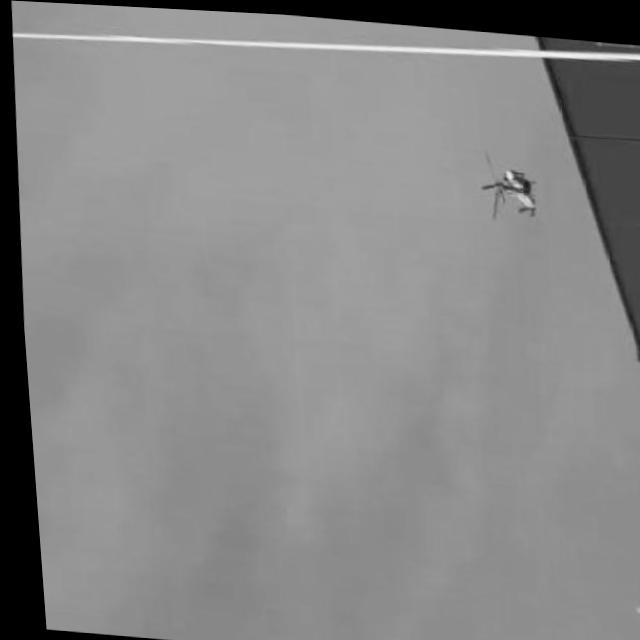helikopter: (475, 145, 537, 214)
